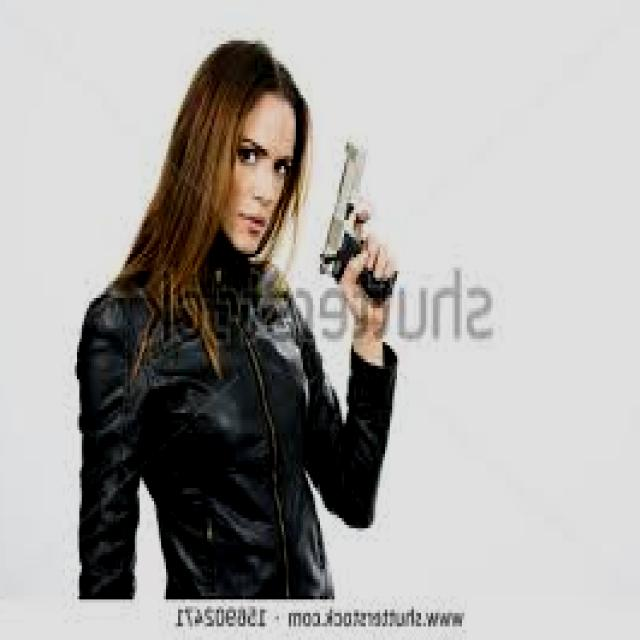pistol: (322, 132, 404, 295)
